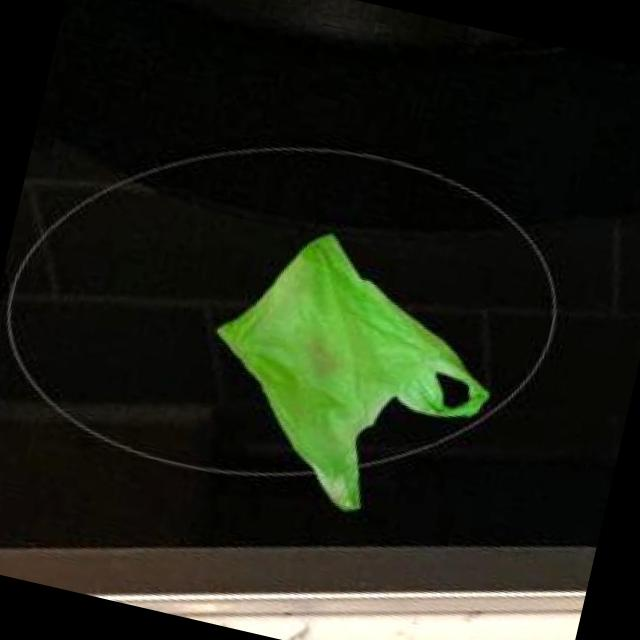KantongPlastik: (181, 210, 518, 538)
